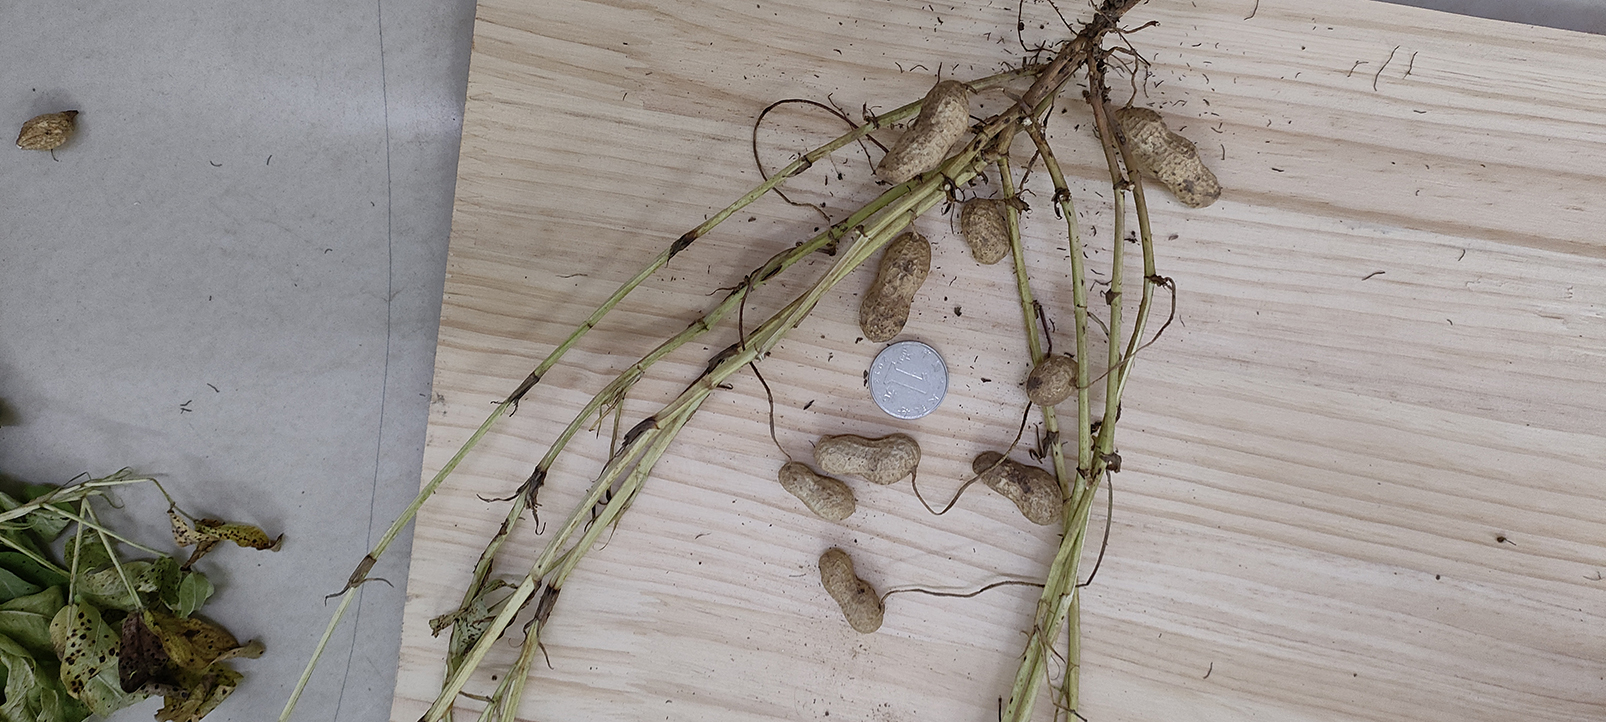h: (1114, 104, 1223, 210), (876, 77, 970, 186), (861, 233, 934, 343), (813, 431, 922, 486), (820, 546, 888, 634), (777, 460, 858, 525), (961, 197, 1014, 267), (1025, 354, 1079, 408)
l: (973, 451, 1065, 525)
